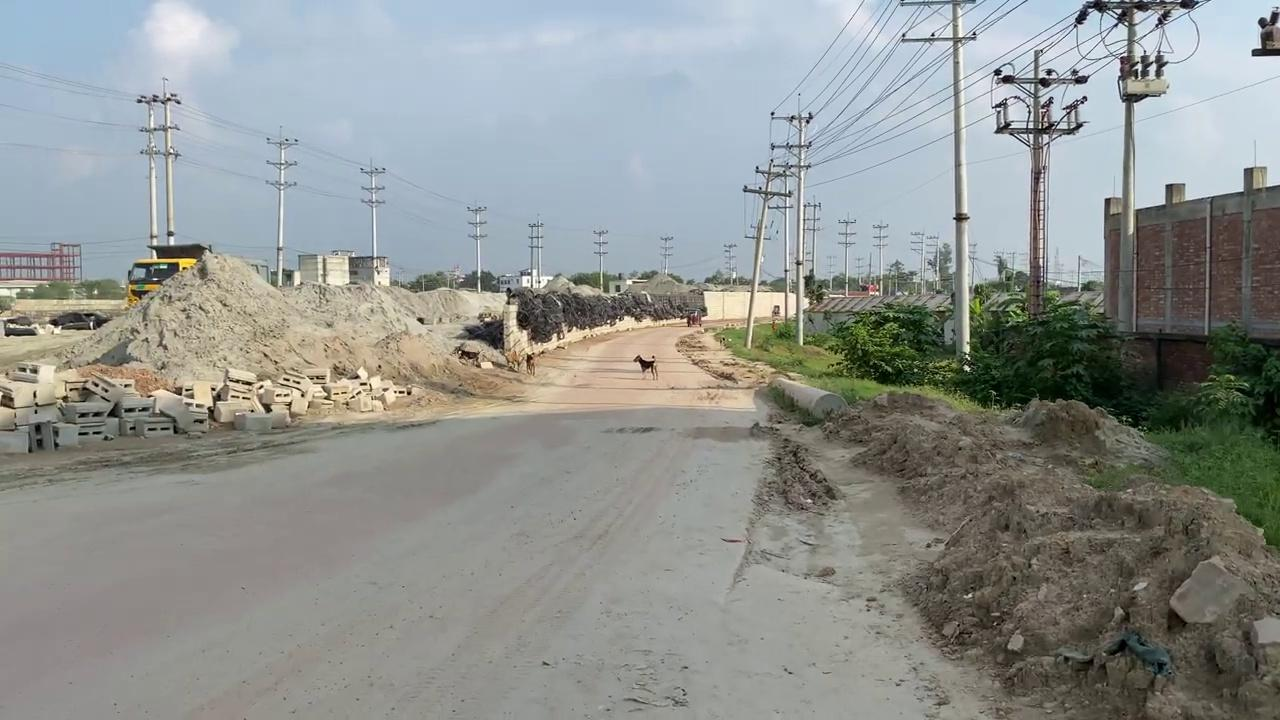Broken-road: (1, 315, 1041, 717)
Dog: (632, 354, 657, 380), (525, 352, 536, 376)
Garbage: (0, 359, 412, 452), (1103, 630, 1172, 676)
Garbage-bin: (686, 309, 700, 326)
Pole: (785, 110, 822, 344), (949, 1, 971, 361), (264, 125, 298, 287), (359, 157, 385, 258)
Tree: (125, 256, 198, 308)
Upstairs: (1102, 181, 1279, 341)
